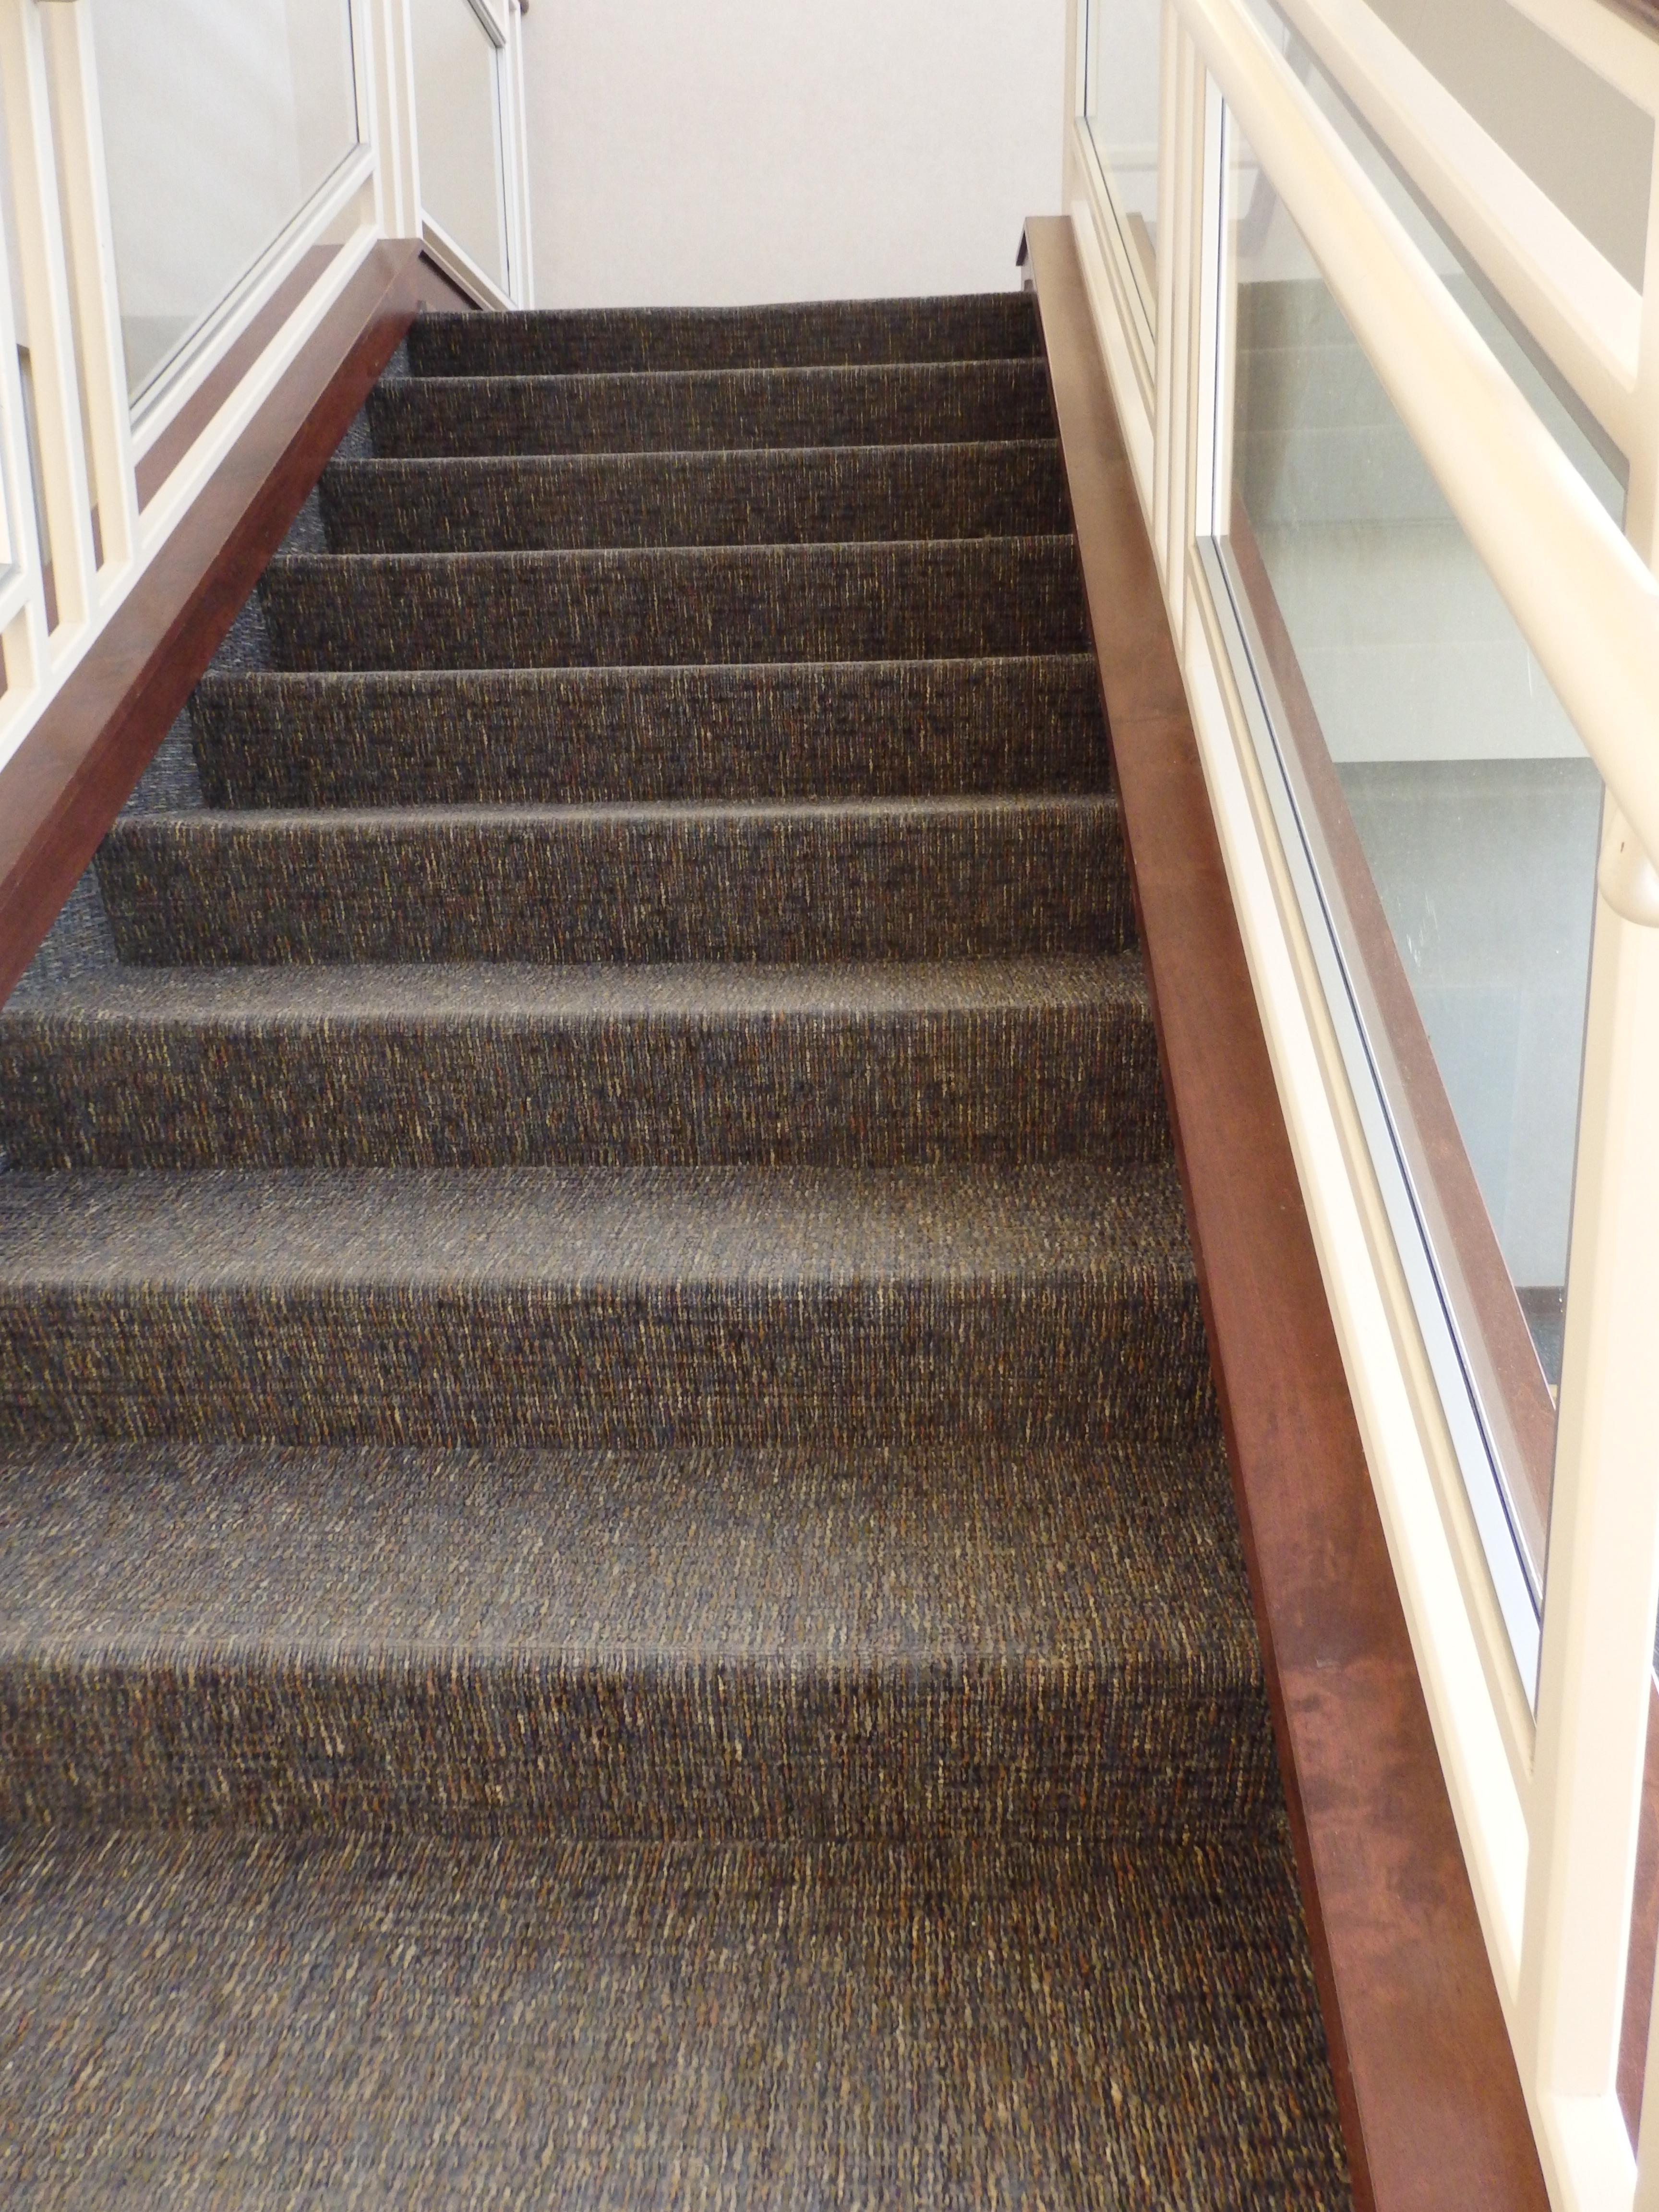stairs_up: (33, 272, 1363, 1968)
